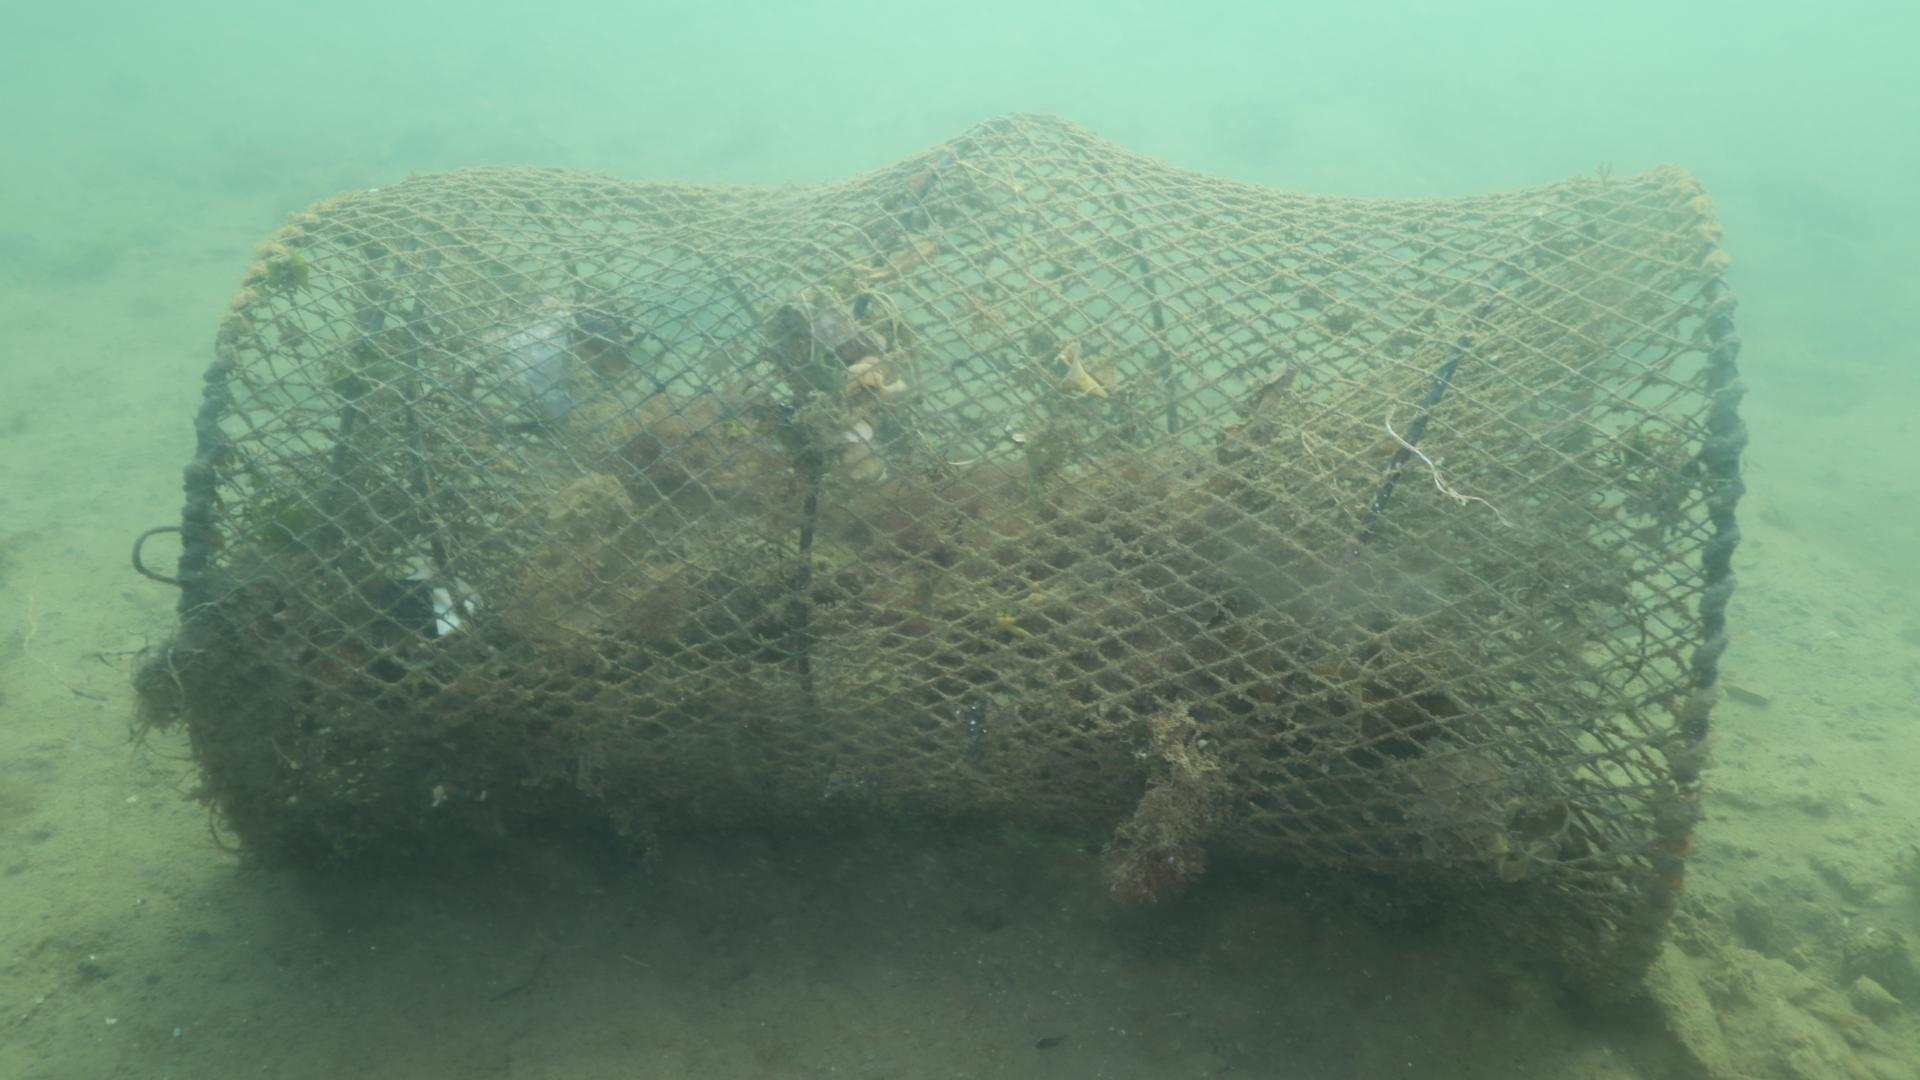spring fish trap: (175, 105, 1741, 1015)
